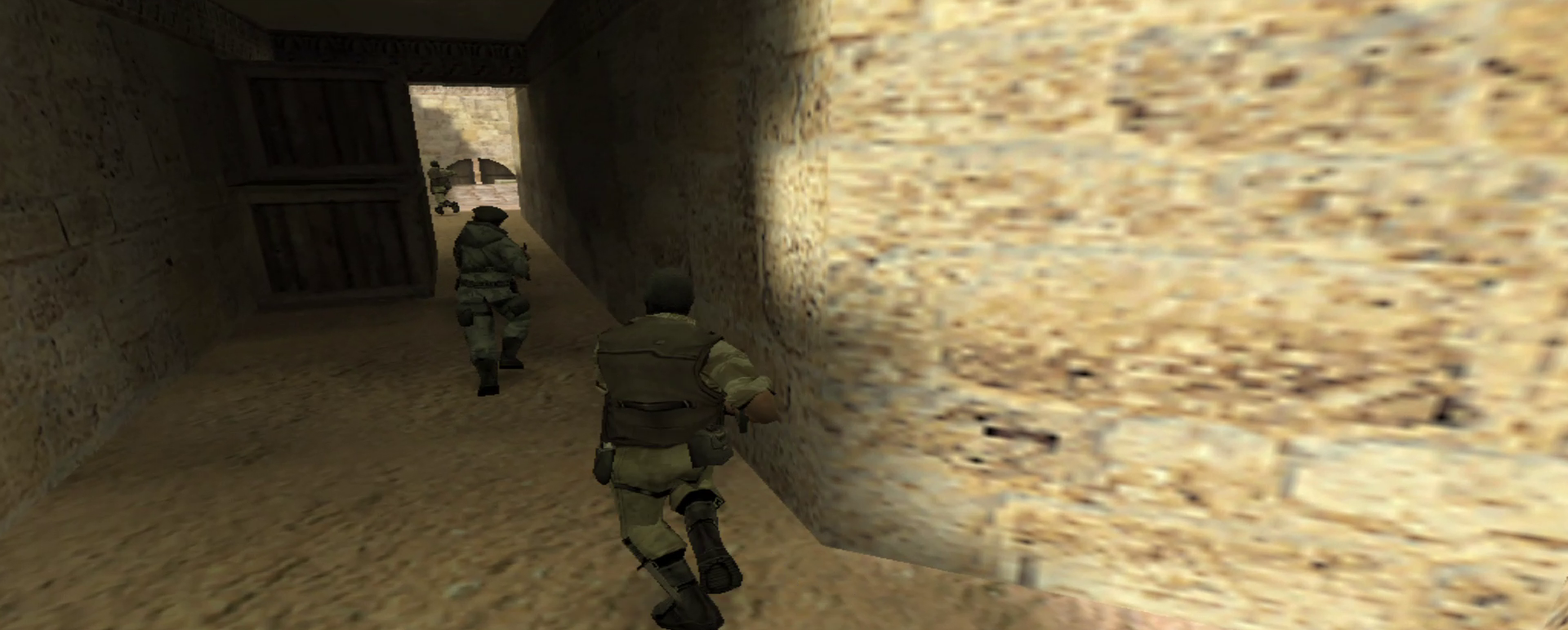ter: (593, 313, 783, 628), (453, 221, 535, 401), (427, 167, 461, 214)
ter_head: (640, 268, 700, 320), (471, 205, 508, 226), (431, 162, 440, 169)
